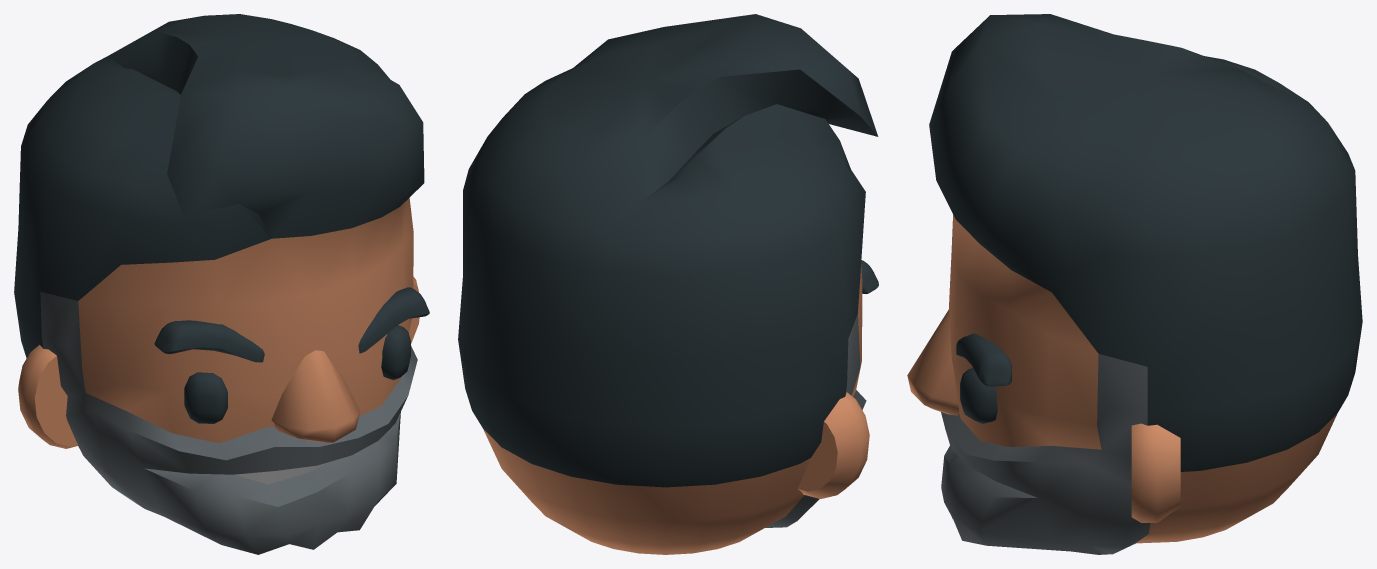
The model's file is character_spaceSoldierHeadC.gltf.glb.
3 views of the same model, side by side, from view 1: azimuth 30°, elevation 25°; view 2: azimuth 150°, elevation 25°; view 3: azimuth 270°, elevation 25° (orthographic). The views are drawn at different scales.
Visible parts, largest first — view 1: character_spaceSoldierHeadC; view 2: character_spaceSoldierHeadC; view 3: character_spaceSoldierHeadC.
Part boxes in pixels (x1,y1,x2,y2): character_spaceSoldierHeadC: (14,14,429,554); character_spaceSoldierHeadC: (458,14,878,554); character_spaceSoldierHeadC: (907,14,1362,554).
Size of the model in its own units: 1.18 by 1.3 by 1.13.
